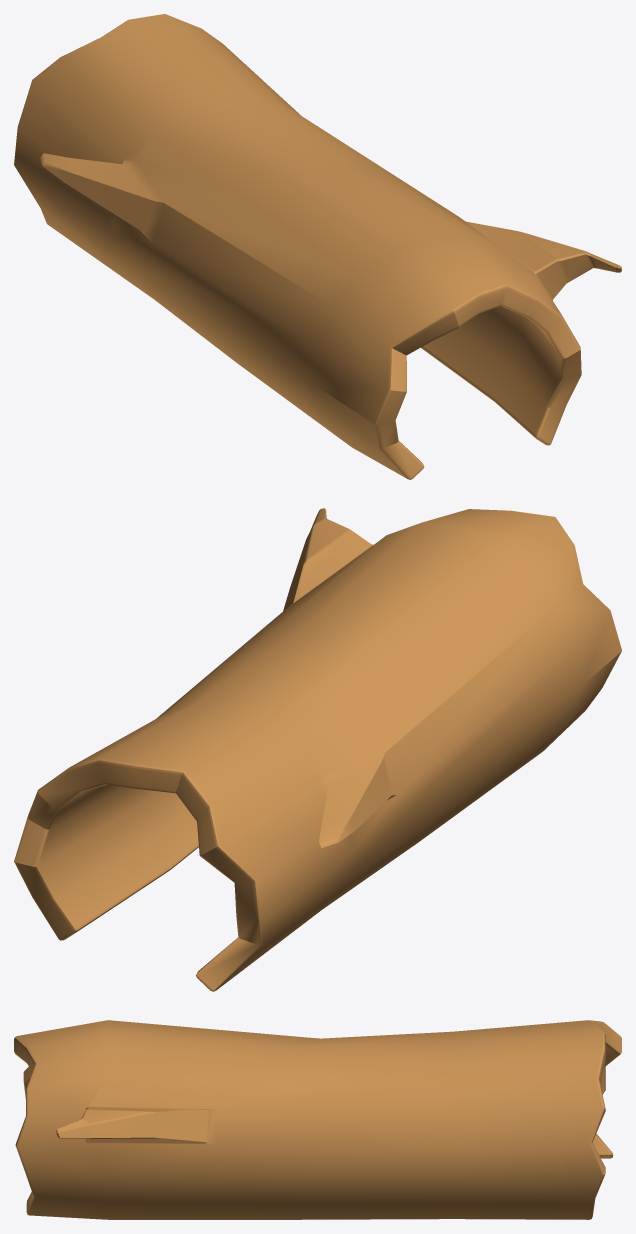
The model's file is Tronco_2.fbx.
The picture shows the model from 3 angles, top to bottom: view 1: azimuth 30°, elevation 25°; view 2: azimuth 150°, elevation 25°; view 3: azimuth 270°, elevation 25°; orthographic projection. The views are drawn at different scales.
Parts seen in each view (by area): view 1: four_slots; view 2: four_slots; view 3: four_slots.
Part boxes in pixels (bbox=[...]): four_slots: bbox=[14, 14, 621, 479]; four_slots: bbox=[14, 508, 621, 991]; four_slots: bbox=[14, 1020, 621, 1219].
Bounding box in the file's own units: 0.9288 × 0.5664 × 1.98.
